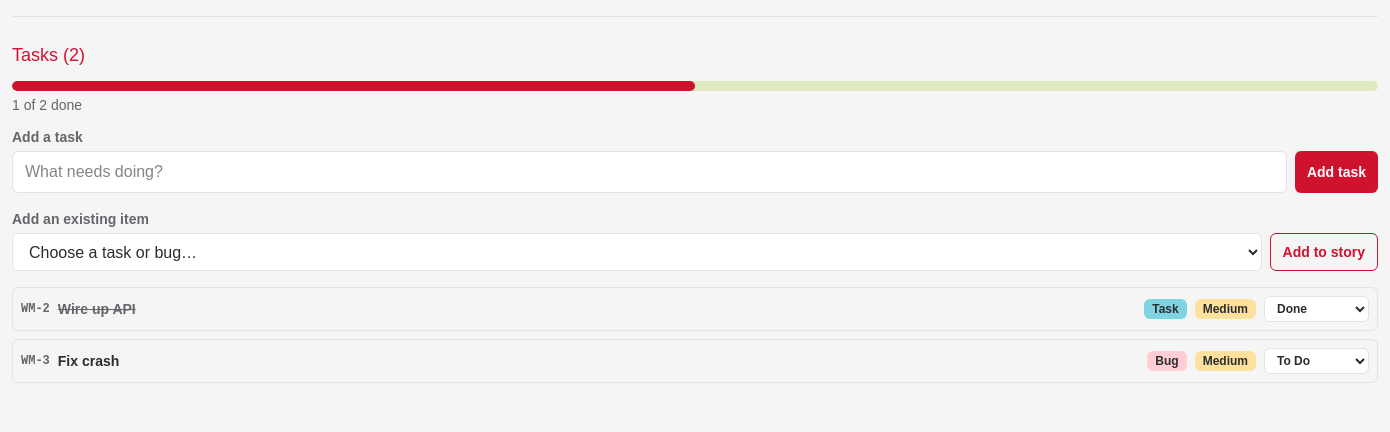
it: StoryTasks › adding an existing item › asks for a choice, and shows linking errors
Click the button "Add to story".
click(1324, 252)  # box [1270, 233, 1378, 271]
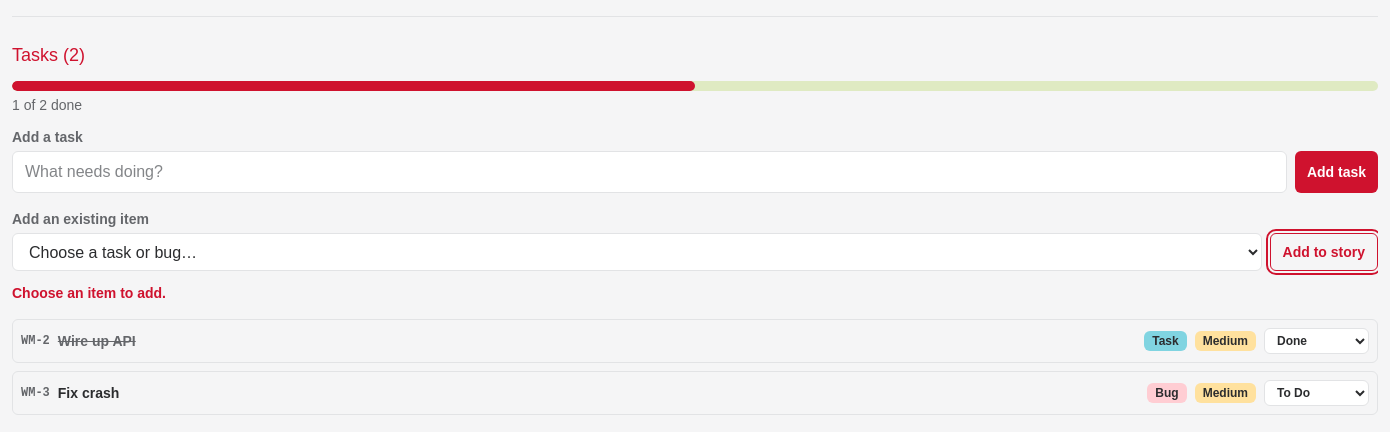
Expected: the message shows "Choose an item", [12, 285, 166, 301]
Select "WM-4 · Unrelated" in the dropdown labelled "Add an existing item" at (637, 252), box [12, 233, 1262, 271]
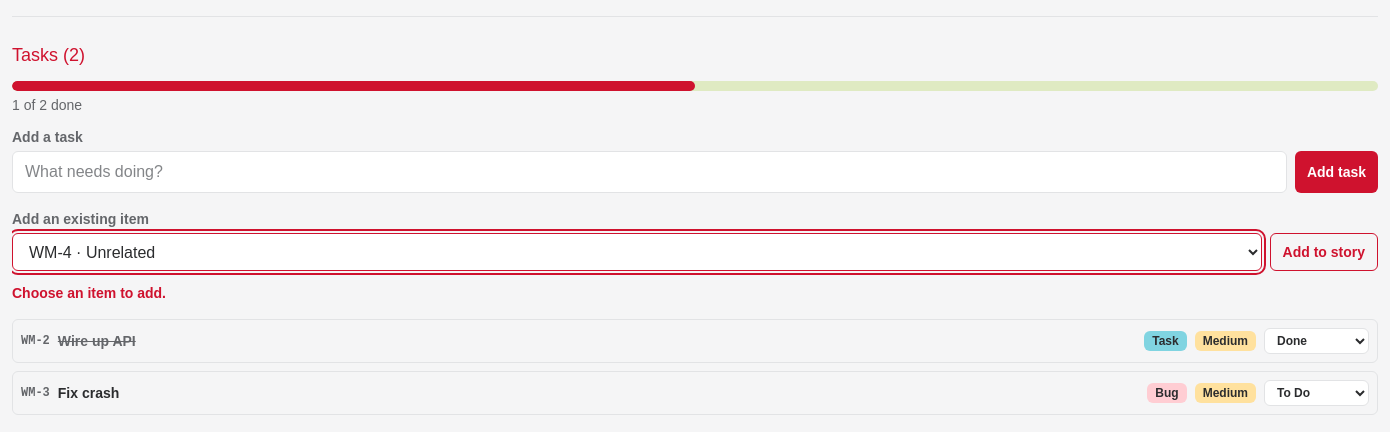
Click the button "Add to story".
click(1324, 252)  # box [1270, 233, 1378, 271]
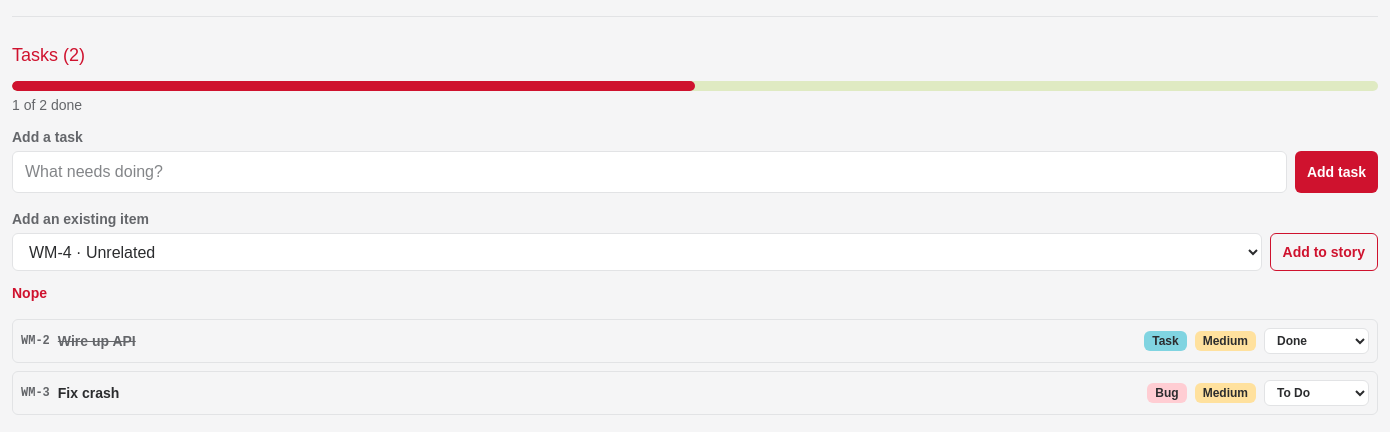
Expected: the message reads "Nope", [12, 285, 47, 301]
